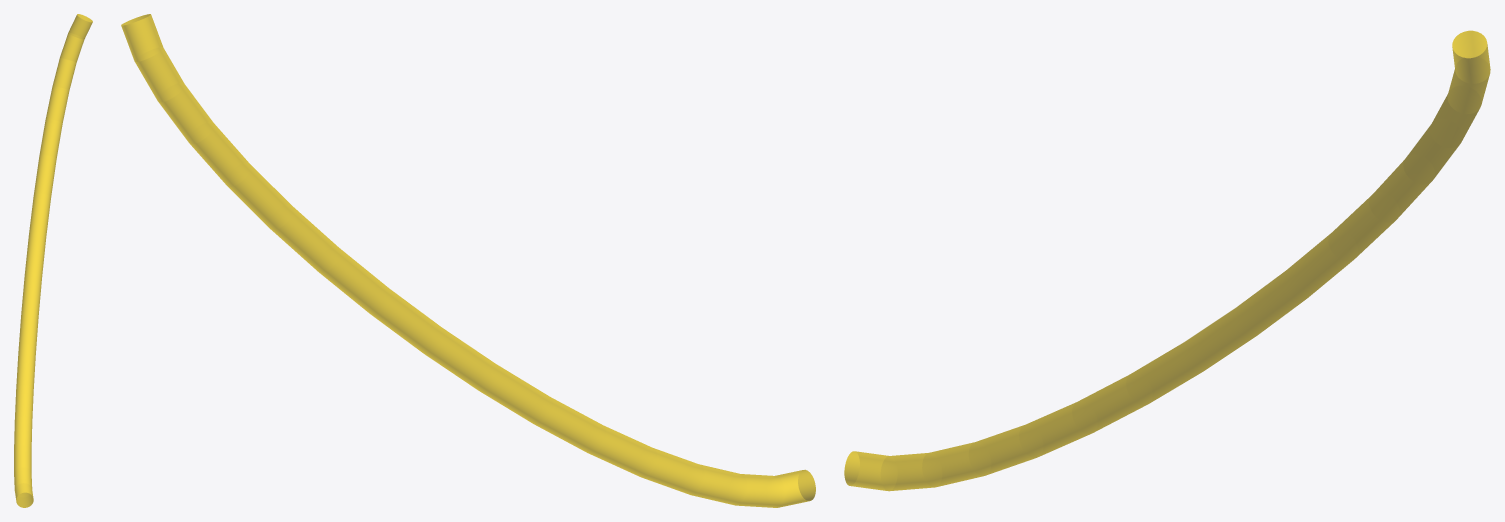
Rendered from Event_17758602_track_133.fbx.
3 views of the same model, side by side, from view 1: azimuth 30°, elevation 25°; view 2: azimuth 150°, elevation 25°; view 3: azimuth 270°, elevation 25° (orthographic). The views are drawn at different scales.
Parts seen in each view (by area): view 1: Model; view 2: Model; view 3: Model.
Boxes of the visible parts, x1=… form: Model: x1=14, y1=14, x2=92, y2=507; Model: x1=121, y1=14, x2=815, y2=507; Model: x1=844, y1=30, x2=1490, y2=491.
Size of the model in its own units: 0.5986 by 0.823 by 0.734.
